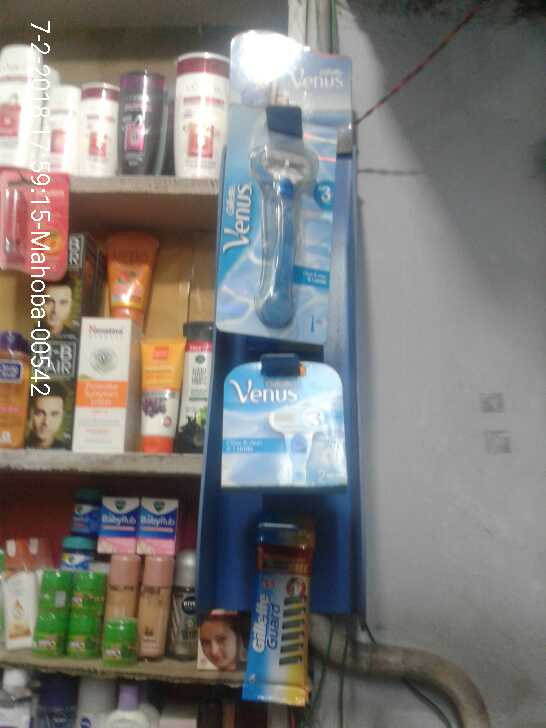beauty: (210, 107, 335, 346), (220, 355, 348, 490), (243, 518, 314, 704)
pharmacy: (139, 492, 177, 558), (98, 497, 141, 554), (54, 534, 85, 573), (71, 494, 97, 537)
